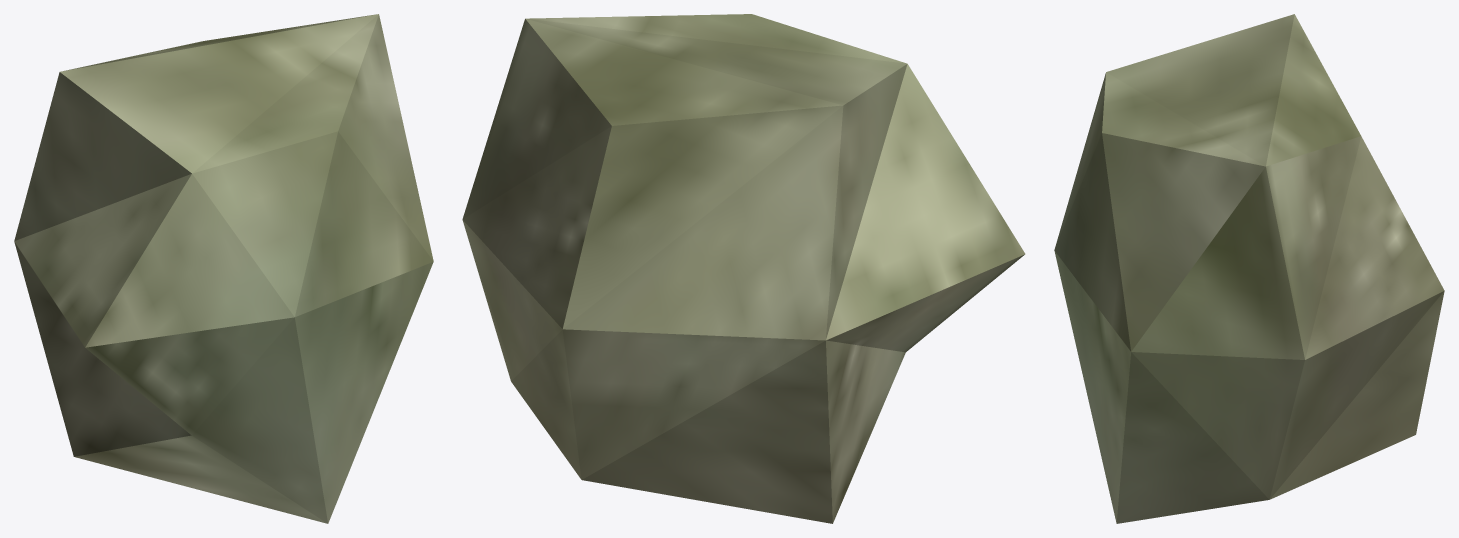
3 views of the same model, side by side, from view 1: azimuth 30°, elevation 25°; view 2: azimuth 150°, elevation 25°; view 3: azimuth 270°, elevation 25° (orthographic). The views are drawn at different scales.
Bounding box in the file's own units: 0.2164 × 0.2154 × 0.1797.
Materials: 1 (1 with a texture image).
